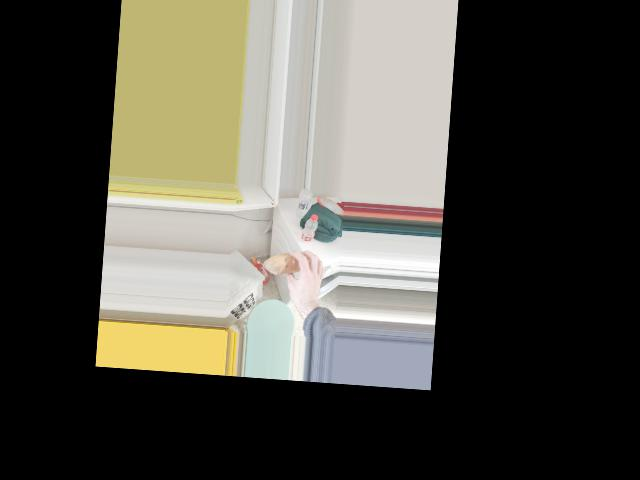sweet_potato: (272, 254, 306, 271)
